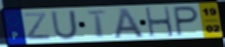A: (113, 7, 146, 40)
H: (143, 6, 176, 39)
P: (172, 5, 200, 37)
T: (86, 10, 109, 39)
U: (50, 10, 80, 41)
Z: (22, 12, 53, 41)
